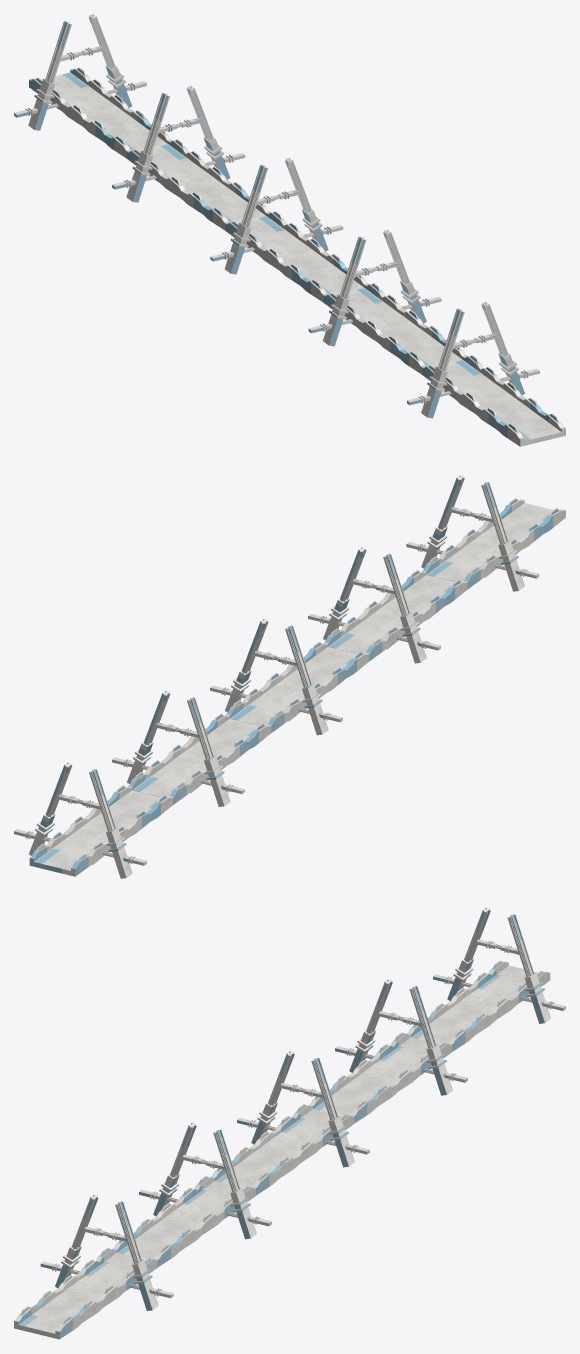
The model's file is sci fi bridge.fbx.
3 renders of one model, top to bottom at view 1: azimuth 30°, elevation 25°; view 2: azimuth 150°, elevation 25°; view 3: azimuth 330°, elevation 25°, orthographic.
Parts seen in each view (by area): view 1: Box005, Box001, Box002, Box003, Box004, pillar013, pillar025, pillar, pillar007, pillar019, pillar002, pillar008 (+3 smaller); view 2: Box004, Box005, Box002, Box001, Box003, pillar013, pillar007, pillar, pillar019, pillar025, pillar026, pillar002 (+3 smaller); view 3: Box005, Box001, Box002, Box003, Box004, pillar002, pillar008, pillar026, pillar020, pillar014, pillar, pillar013 (+3 smaller).
Boxes of the visible parts, x1=… form: Box005: x1=422, y1=355, x2=565, y2=446; Box001: x1=323, y1=283, x2=467, y2=374; Box002: x1=225, y1=211, x2=368, y2=302; Box003: x1=127, y1=139, x2=270, y2=230; Box004: x1=29, y1=67, x2=172, y2=158; pillar013: x1=126, y1=92, x2=169, y2=202; pillar025: x1=421, y1=308, x2=464, y2=418; pillar: x1=323, y1=236, x2=366, y2=346; pillar007: x1=224, y1=164, x2=268, y2=274; pillar019: x1=28, y1=21, x2=71, y2=130; pillar002: x1=383, y1=230, x2=426, y2=323; pillar008: x1=285, y1=158, x2=328, y2=251; Box004: x1=29, y1=785, x2=173, y2=876; Box005: x1=422, y1=498, x2=565, y2=589; Box002: x1=226, y1=642, x2=369, y2=732; Box001: x1=324, y1=570, x2=467, y2=661; Box003: x1=128, y1=713, x2=271, y2=804; pillar013: x1=187, y1=697, x2=230, y2=806; pillar007: x1=285, y1=625, x2=328, y2=735; pillar: x1=383, y1=554, x2=426, y2=663; pillar019: x1=89, y1=769, x2=132, y2=878; pillar025: x1=481, y1=482, x2=524, y2=591; pillar026: x1=421, y1=475, x2=464, y2=568; pillar002: x1=323, y1=547, x2=366, y2=640; Box005: x1=14, y1=1248, x2=157, y2=1339; Box001: x1=112, y1=1176, x2=255, y2=1267; Box002: x1=210, y1=1104, x2=354, y2=1195; Box003: x1=308, y1=1032, x2=452, y2=1123; Box004: x1=407, y1=960, x2=550, y2=1051; pillar002: x1=213, y1=1129, x2=256, y2=1239; pillar008: x1=311, y1=1058, x2=354, y2=1167; pillar026: x1=115, y1=1201, x2=158, y2=1310; pillar020: x1=507, y1=914, x2=550, y2=1023; pillar014: x1=409, y1=986, x2=452, y2=1095; pillar: x1=153, y1=1123, x2=196, y2=1216; pillar013: x1=349, y1=979, x2=392, y2=1072.
Size of the model in its own units: 283 by 206 by 1847.
